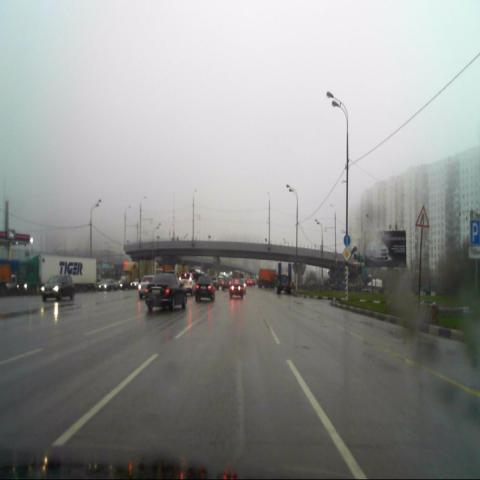1_20_3: (415, 204, 429, 227)
2_1: (343, 247, 350, 262)
4_1_1: (343, 235, 350, 246)
6_4: (470, 220, 480, 243)
8_1_1: (468, 246, 480, 258)
